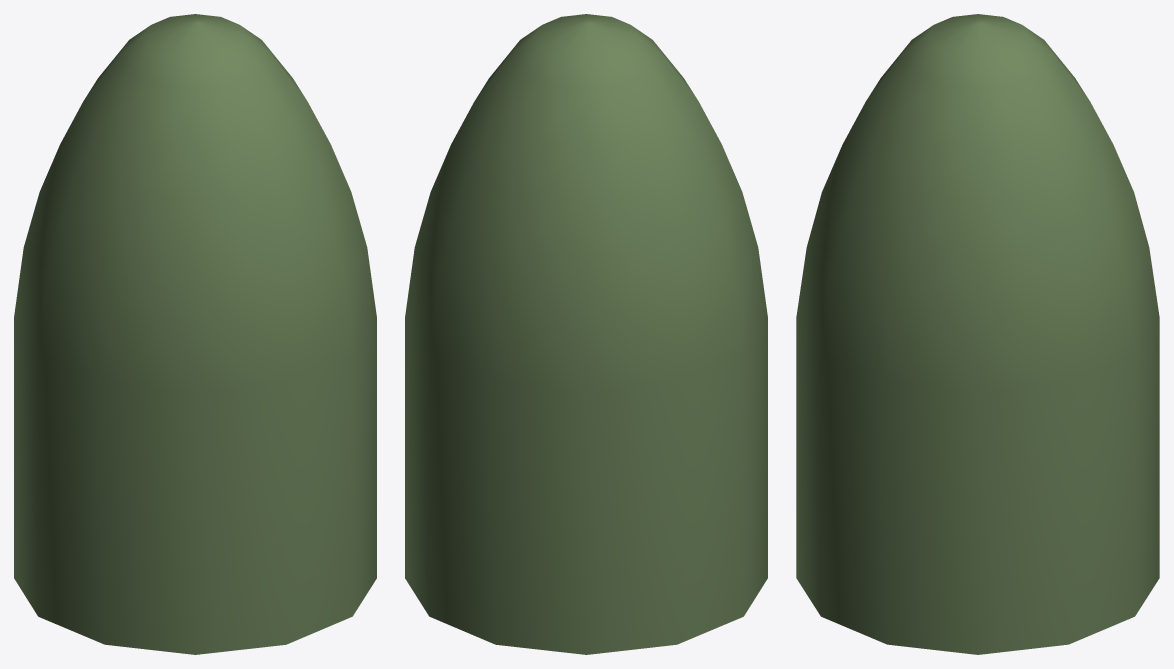
Rendered from Rhododendron_Azaleas_Analytical_0.obj.
3 views of the same model, side by side, from view 1: azimuth 30°, elevation 25°; view 2: azimuth 150°, elevation 25°; view 3: azimuth 270°, elevation 25° (orthographic).
Visible parts, largest first — view 1: AnalyticalCrown; view 2: AnalyticalCrown; view 3: AnalyticalCrown.
Part boxes in pixels (x1,y1,x2,y2): AnalyticalCrown: (14, 14, 376, 654); AnalyticalCrown: (405, 14, 767, 654); AnalyticalCrown: (796, 14, 1159, 654).
Size of the model in its own units: 0.74 by 1.25 by 0.74.
